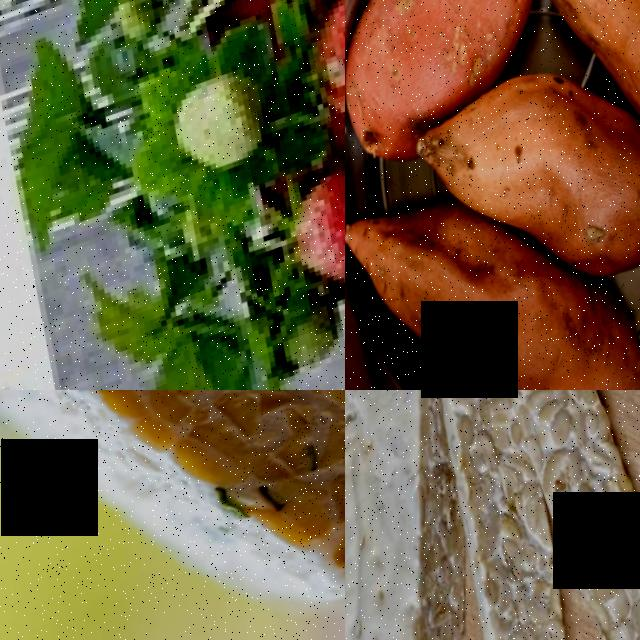strawberry: (284, 150, 345, 303)
sweet potato: (345, 130, 640, 390), (345, 0, 594, 174), (499, 0, 640, 220)
tempeh: (3, 390, 345, 640), (379, 390, 624, 640), (345, 390, 528, 640), (458, 390, 640, 585), (572, 525, 640, 640)
